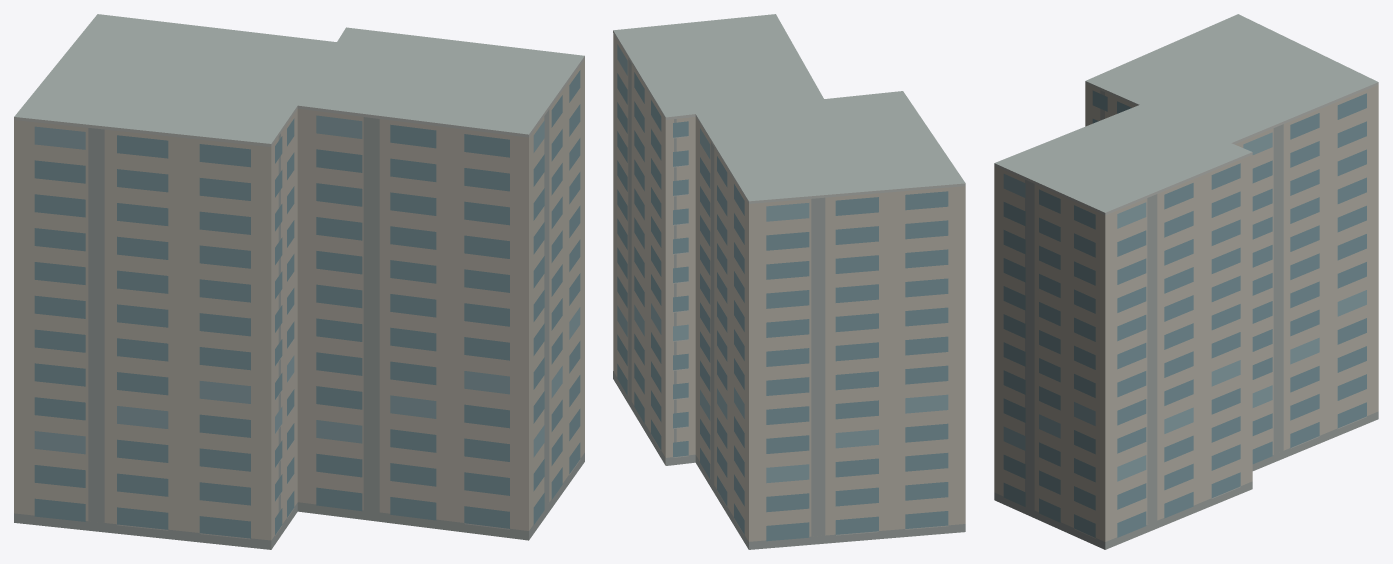
Rendered from residential-e23ff87f-a511-474b-9217-e461b41b1c11.glb.
3 views of the same model, side by side, from view 1: azimuth 30°, elevation 25°; view 2: azimuth 150°, elevation 25°; view 3: azimuth 270°, elevation 25° (orthographic). The views are drawn at different scales.
Visible parts, largest first — view 1: residential-e23ff87f-a511-474b-9217-e461b41b1c11.tmp; view 2: residential-e23ff87f-a511-474b-9217-e461b41b1c11.tmp; view 3: residential-e23ff87f-a511-474b-9217-e461b41b1c11.tmp.
Part boxes in pixels (x1=…): residential-e23ff87f-a511-474b-9217-e461b41b1c11.tmp: x1=14, y1=14, x2=584, y2=549; residential-e23ff87f-a511-474b-9217-e461b41b1c11.tmp: x1=613, y1=14, x2=965, y2=549; residential-e23ff87f-a511-474b-9217-e461b41b1c11.tmp: x1=994, y1=14, x2=1378, y2=549.
Bounding box in the file's own units: 40.49 × 32 × 33.07.
